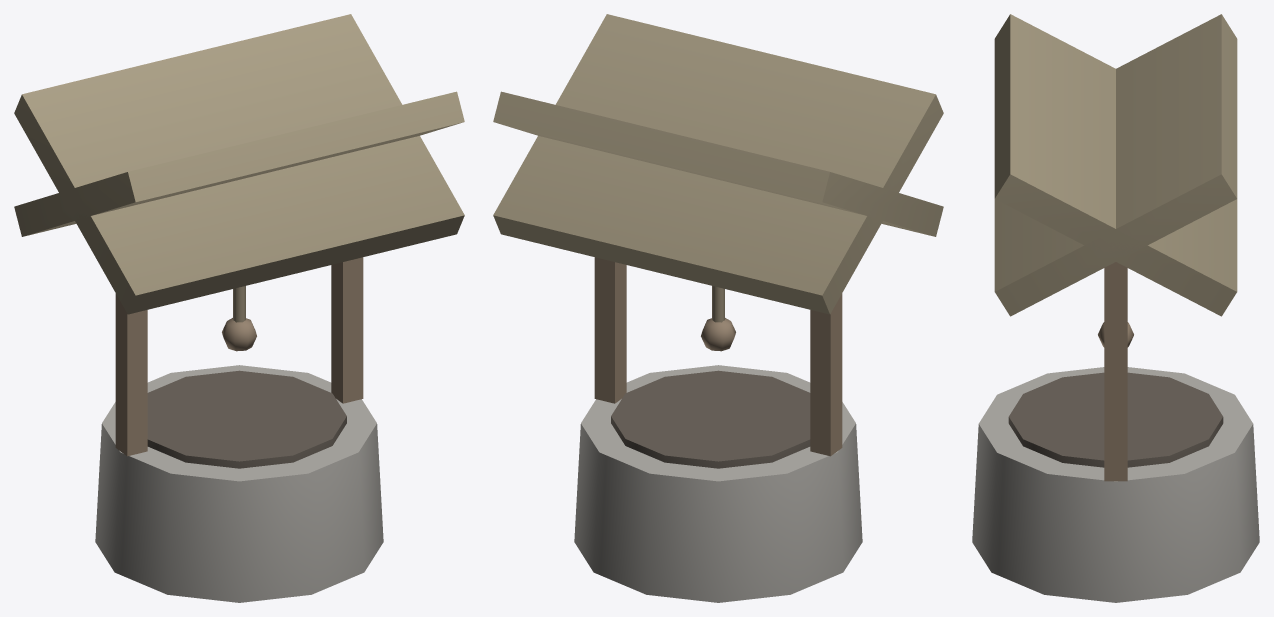
File: well-inverted-roof.glb
The picture shows the model from 3 angles, left to right: view 1: azimuth 30°, elevation 25°; view 2: azimuth 150°, elevation 25°; view 3: azimuth 270°, elevation 25°; orthographic projection.
Parts seen in each view (by area): view 1: well; view 2: well; view 3: well.
Part boxes in pixels (x1=…): well: x1=14, y1=14, x2=464, y2=602; well: x1=493, y1=14, x2=943, y2=602; well: x1=972, y1=14, x2=1259, y2=602.
Size of the model in its own units: 2.9 by 3.78 by 2.2.
